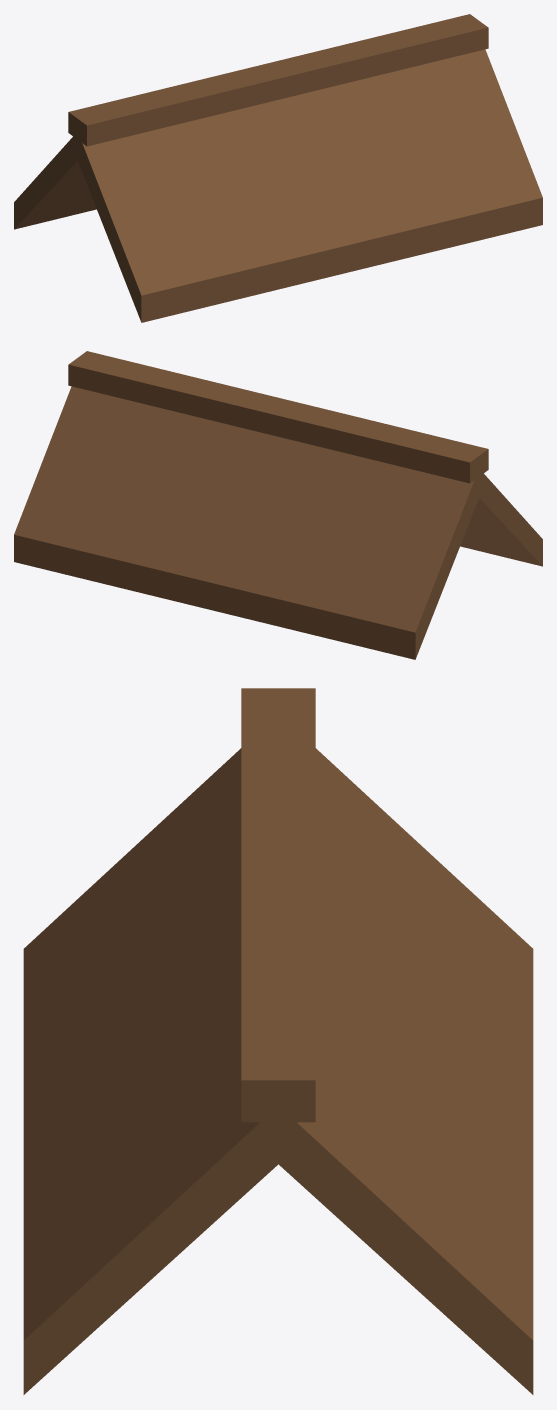
The model's file is roof_ridge_shingle_lod0.glb.
The picture shows the model from 3 angles, top to bottom: view 1: azimuth 30°, elevation 25°; view 2: azimuth 150°, elevation 25°; view 3: azimuth 270°, elevation 25°; orthographic projection. The views are drawn at different scales.
Parts seen in each view (by area): view 1: roof_ridge_shingle; view 2: roof_ridge_shingle; view 3: roof_ridge_shingle.
Part boxes in pixels (bbox=[...]): roof_ridge_shingle: bbox=[14, 14, 542, 322]; roof_ridge_shingle: bbox=[14, 351, 542, 659]; roof_ridge_shingle: bbox=[23, 688, 533, 1394].
Size of the model in its own units: 2 by 0.75 by 1.1.
